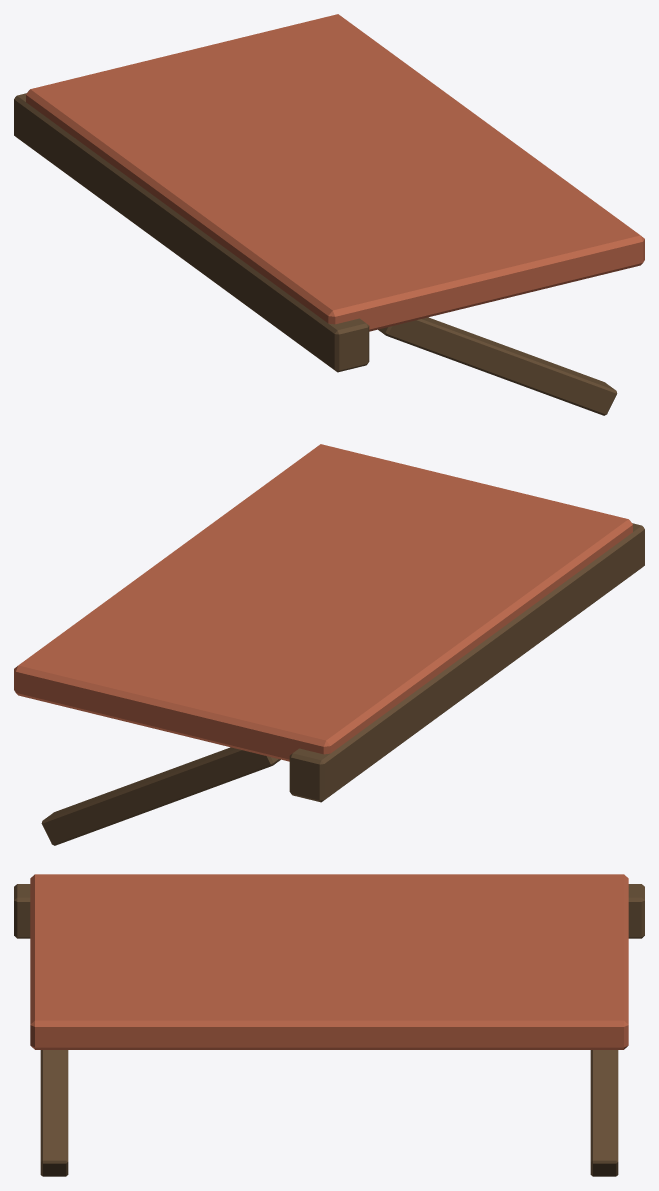
The model's file is SM_WL_Porch160cm.fbx.
3 renders of one model, top to bottom at view 1: azimuth 30°, elevation 25°; view 2: azimuth 150°, elevation 25°; view 3: azimuth 270°, elevation 25°, orthographic. The views are drawn at different scales.
Parts seen in each view (by area): view 1: SM_WL_Porch160cm; view 2: SM_WL_Porch160cm; view 3: SM_WL_Porch160cm.
Part boxes in pixels (bbox=[...]): SM_WL_Porch160cm: bbox=[14, 14, 644, 415]; SM_WL_Porch160cm: bbox=[14, 444, 644, 845]; SM_WL_Porch160cm: bbox=[14, 874, 644, 1176].
Size of the model in its own units: 1.95 by 1.11 by 0.5832.
